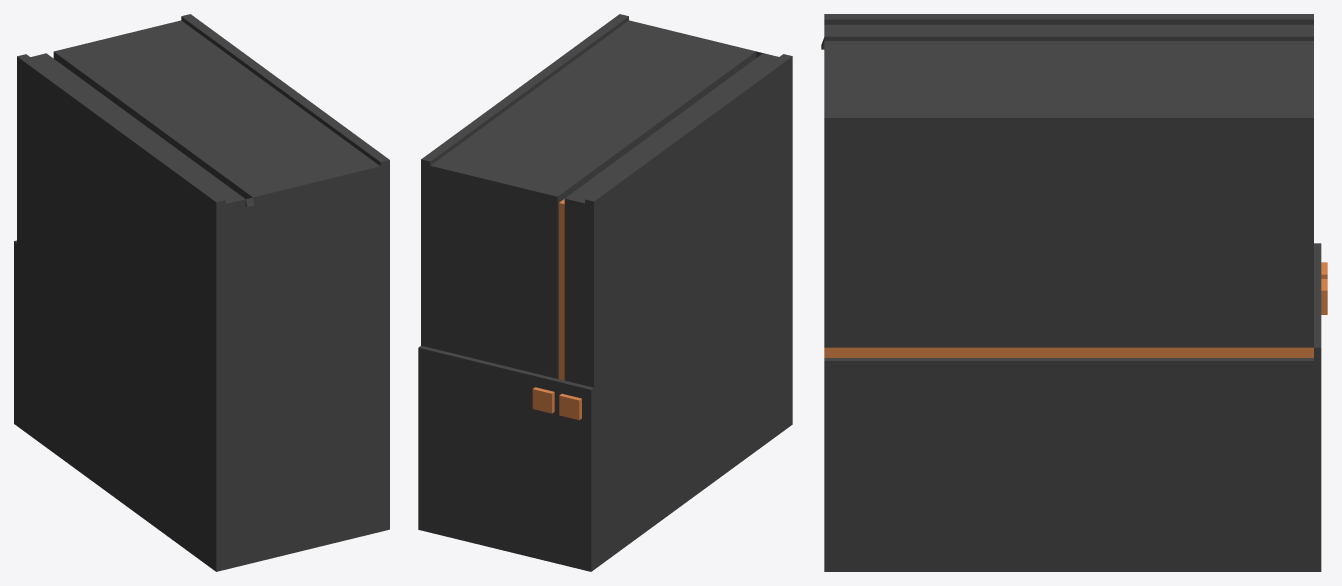
File: Computer.fbx
The picture shows the model from 3 angles, left to right: view 1: azimuth 30°, elevation 25°; view 2: azimuth 150°, elevation 25°; view 3: azimuth 270°, elevation 25°; orthographic projection. The views are drawn at different scales.
Parts seen in each view (by area): view 1: Cube.068; view 2: Cube.068; view 3: Cube.068.
Boxes of the visible parts, bbox=[...] form: Cube.068: bbox=[14, 14, 389, 571]; Cube.068: bbox=[418, 14, 792, 571]; Cube.068: bbox=[821, 14, 1327, 571].
Size of the model in its own units: 24.96 by 50.78 by 51.35.
